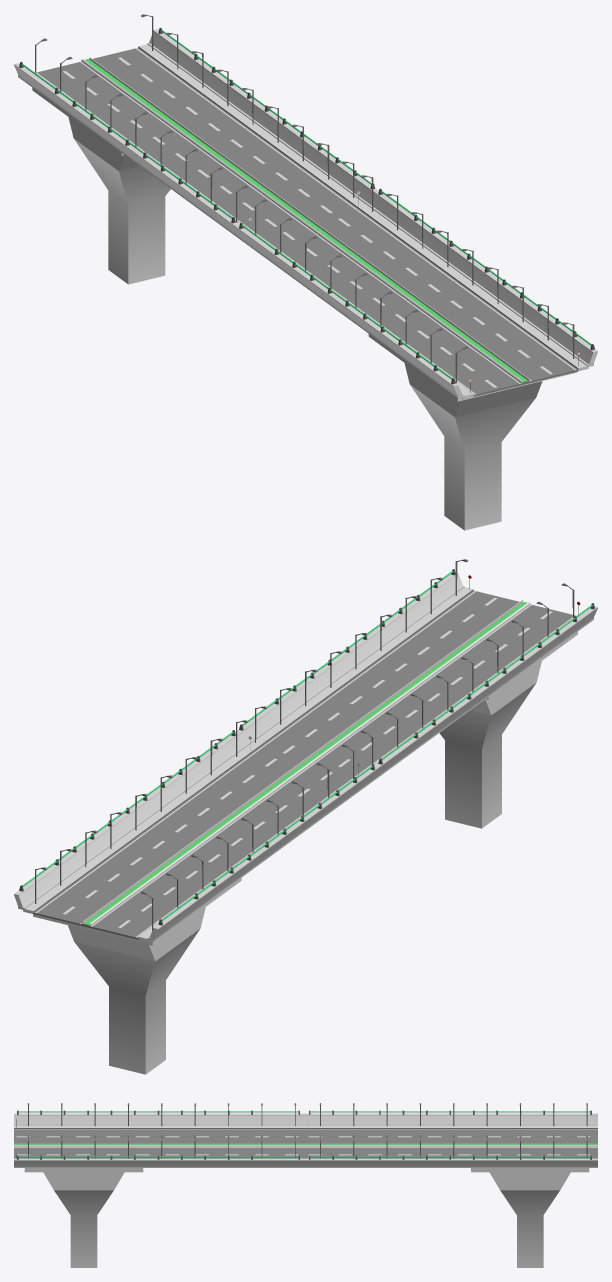
File: level3.fbx
3 views of the same model, one above another, from view 1: azimuth 30°, elevation 25°; view 2: azimuth 150°, elevation 25°; view 3: azimuth 270°, elevation 25° (orthographic). The views are drawn at different scales.
Parts seen in each view (by area): view 1: polySurface228; view 2: polySurface228; view 3: polySurface228.
Boxes of the visible parts, bbox=[...] form: polySurface228: bbox=[14, 14, 597, 530]; polySurface228: bbox=[14, 559, 597, 1074]; polySurface228: bbox=[14, 1103, 597, 1267].
Size of the model in its own units: 17.99 by 25.6 by 95.12.
